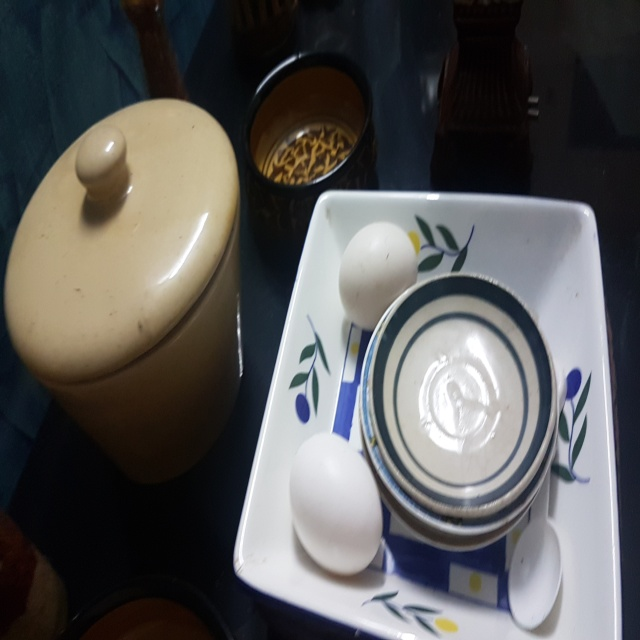eggs: (281, 429, 391, 584), (323, 214, 430, 333)
